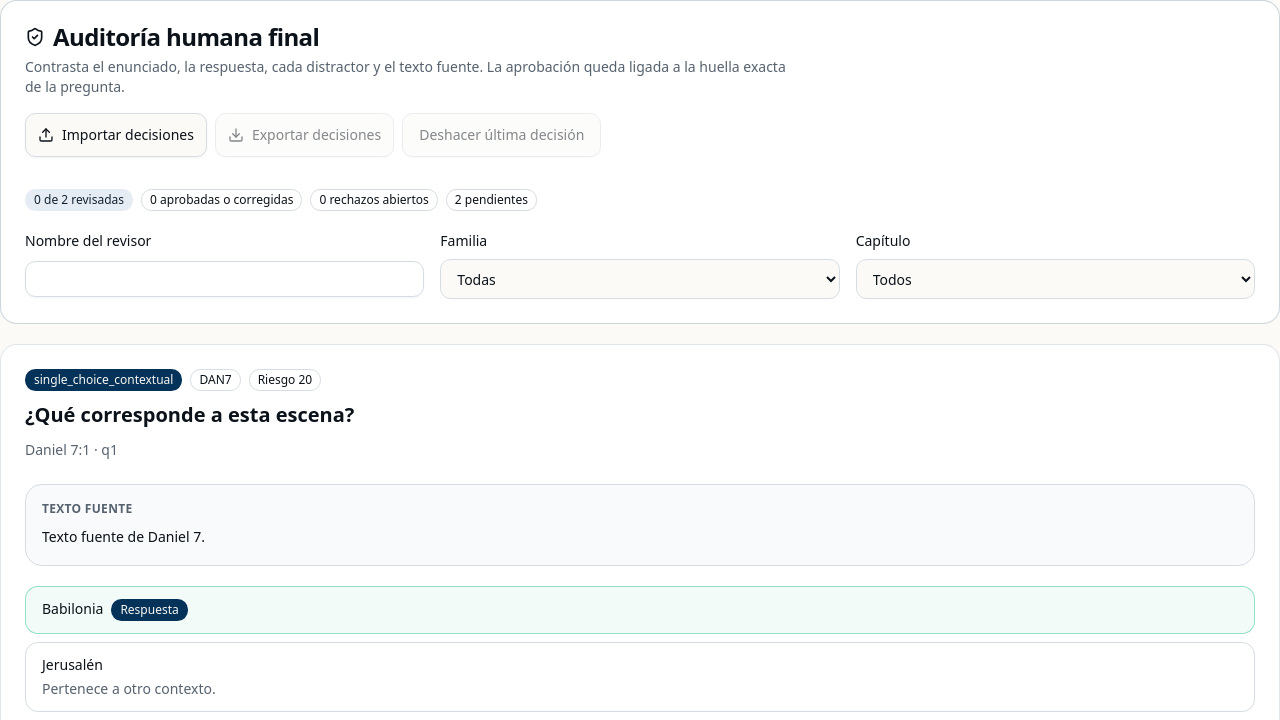
Test: permite deshacer la última decisión sin dejar una firma fantasma
Expected: the text "¿Qué corresponde a esta escena?" is shown, [25,401,354,428]
Type "María" into the field labelled "Nombre del revisor" at (225, 279), box [25,261,424,297]
(page scrolled)
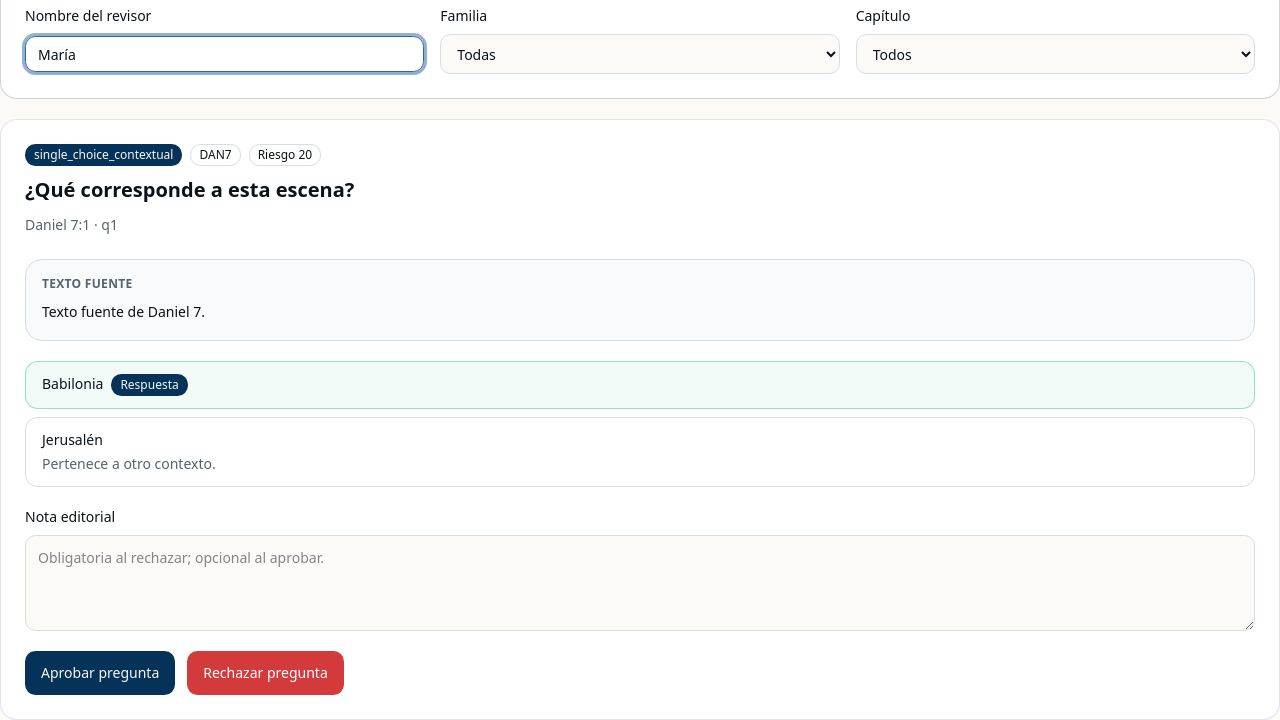
Click the button "Aprobar pregunta" at (100, 672), box [25,650,175,694]
(page scrolled)
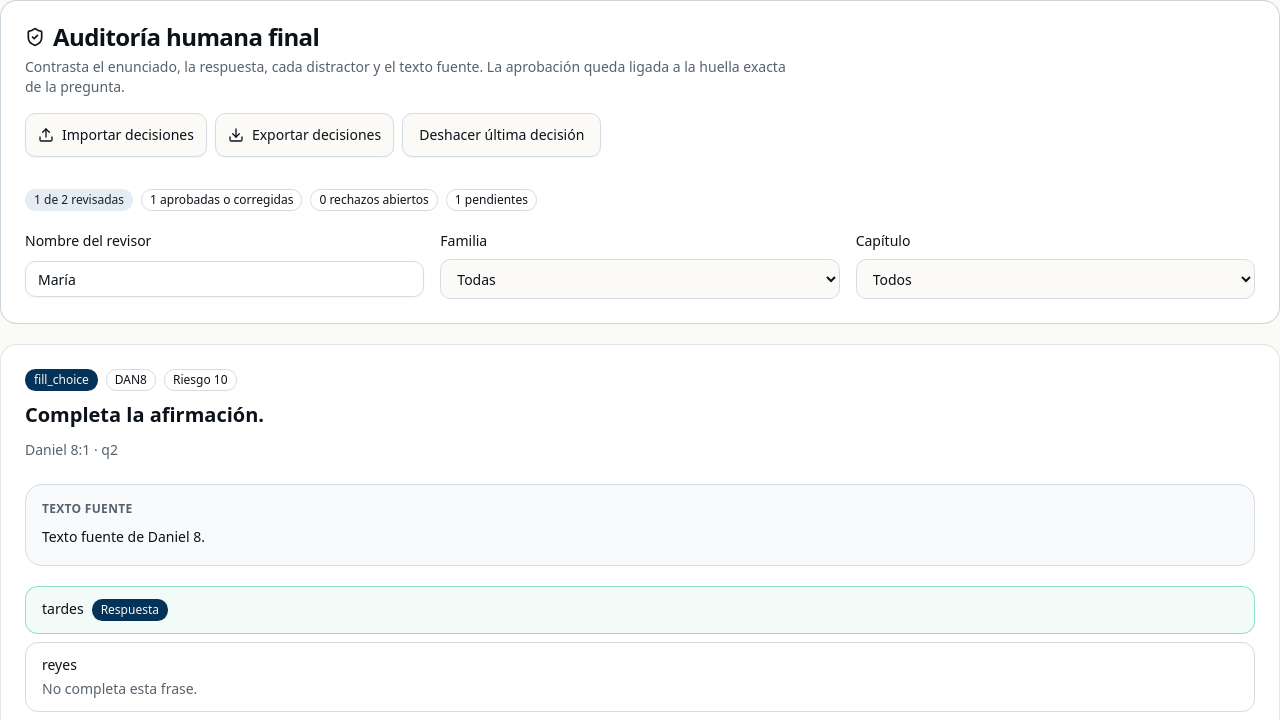
Expected: the text "Completa la afirmación." is shown, [25,401,264,428]
Click the button "Deshacer última decisión" at (502, 135), box [402,113,601,157]
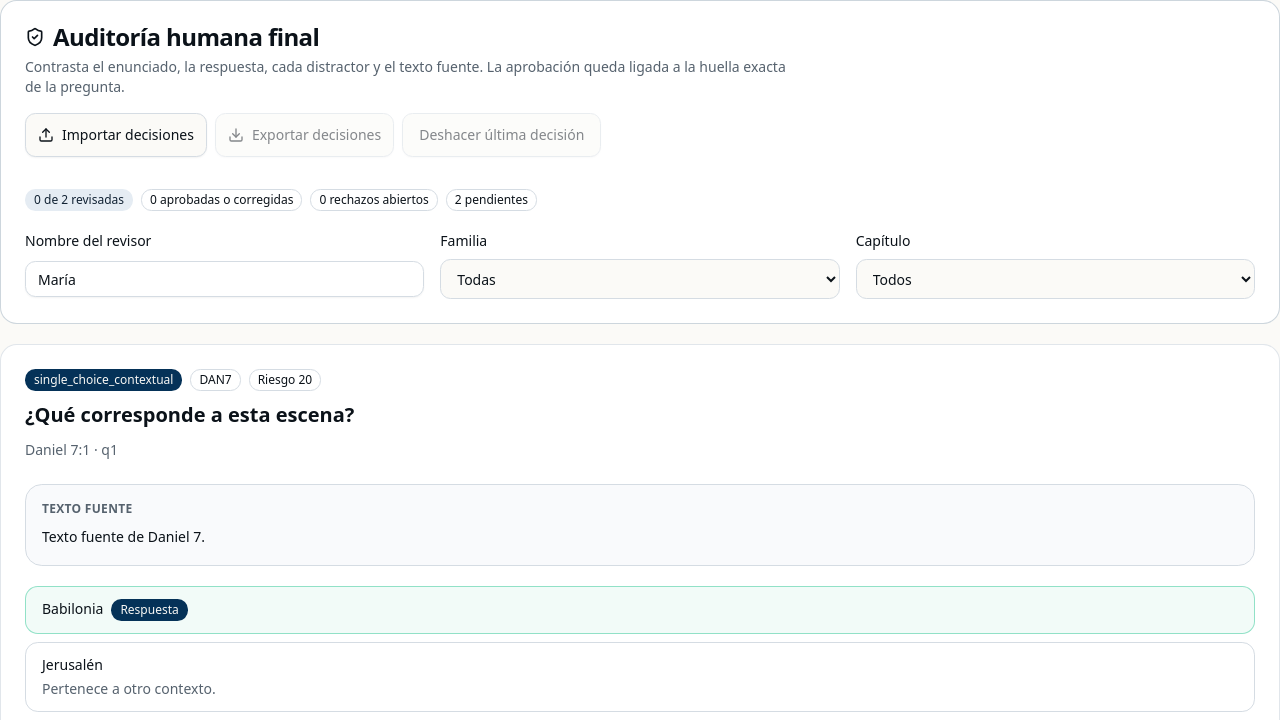
Expected: the text "¿Qué corresponde a esta escena?" is shown, [25,401,354,428]
Expected: the text "0 de 2 revisadas" is shown, [25,189,133,211]
